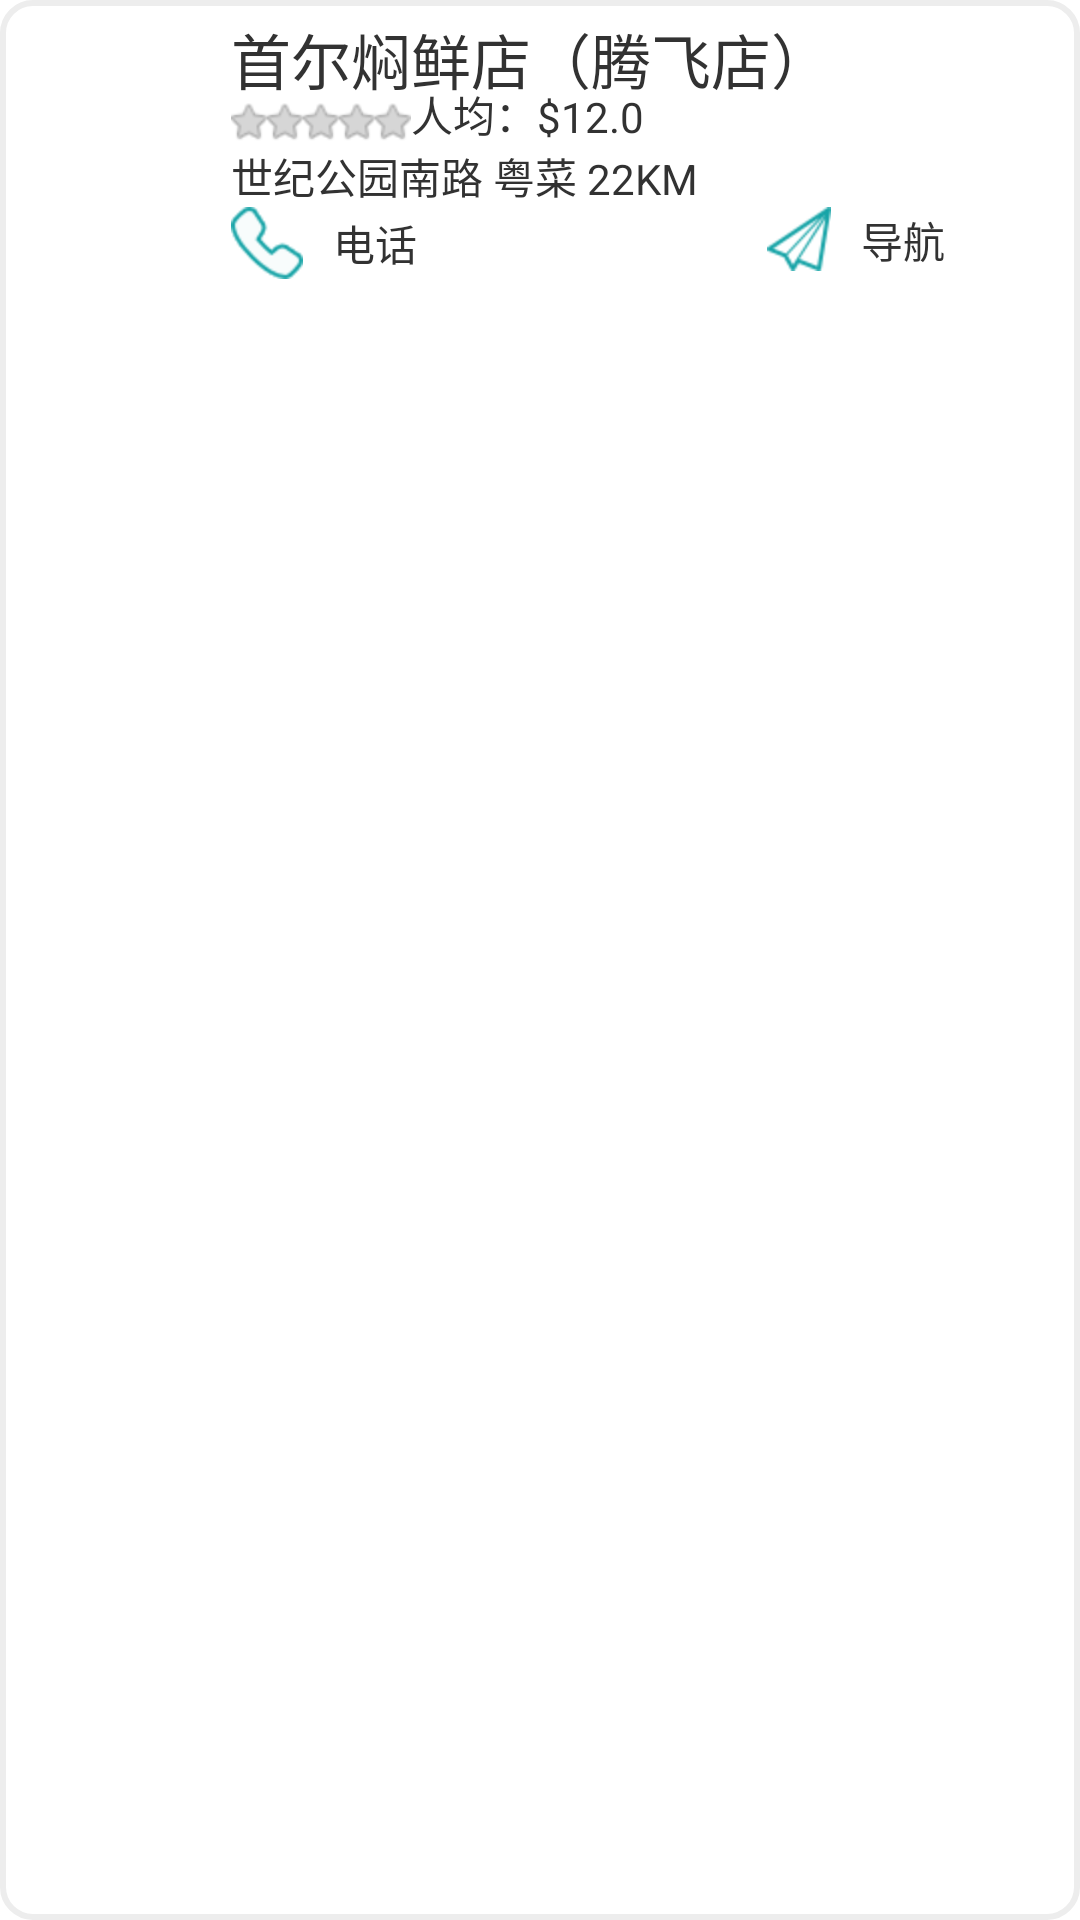

Where to tap for icons on this 1080*1920 app screen, as point (x, y):
hotel navigation: point (799, 239)
hotel tel: point (267, 243)
